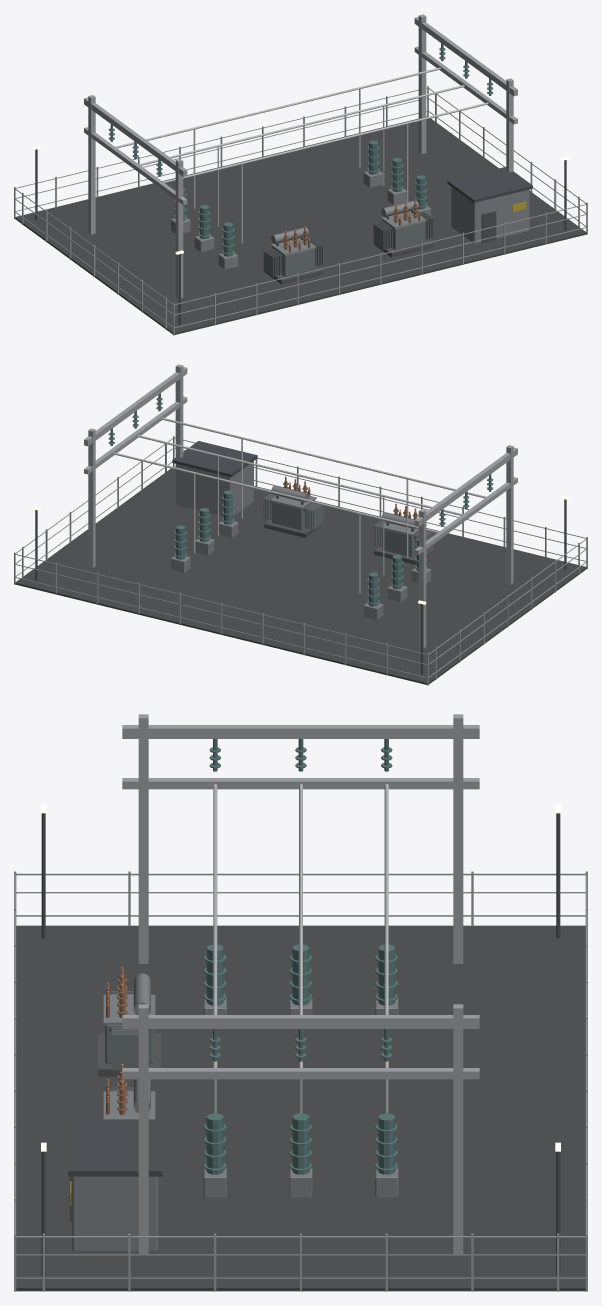
Rendered from substation.glb.
3 views of the same model, one above another, from view 1: azimuth 30°, elevation 25°; view 2: azimuth 150°, elevation 25°; view 3: azimuth 270°, elevation 25° (orthographic). The views are drawn at different scales.
Visible parts, largest first — view 1: gravel, gantries, fence, transformers, control_house, bus_bars, breakers, yard_lamps, insulators; view 2: gravel, gantries, fence, transformers, control_house, bus_bars, breakers, yard_lamps, insulators; view 3: gravel, gantries, fence, control_house, breakers, transformers, bus_bars, yard_lamps, insulators.
Boxes of the visible parts, <box> form: gravel: <box>15,116,586,334</box>; gantries: <box>84,14,517,298</box>; fence: <box>14,86,587,335</box>; transformers: <box>263,199,433,284</box>; control_house: <box>447,167,532,244</box>; bus_bars: <box>115,67,488,243</box>; breakers: <box>171,140,430,269</box>; yard_lamps: <box>32,54,569,324</box>; insulators: <box>108,43,493,176</box>; gravel: <box>15,466,586,684</box>; gantries: <box>84,364,517,648</box>; fence: <box>14,436,587,685</box>; transformers: <box>263,476,433,564</box>; control_house: <box>172,441,257,516</box>; bus_bars: <box>113,417,486,593</box>; breakers: <box>171,490,430,619</box>; yard_lamps: <box>32,404,569,674</box>; insulators: <box>108,393,493,526</box>; gravel: <box>16,925,585,1291</box>; gantries: <box>122,714,479,1253</box>; fence: <box>14,871,587,1291</box>; control_house: <box>68,1119,162,1251</box>; breakers: <box>203,944,398,1197</box>; transformers: <box>98,967,160,1119</box>; bus_bars: <box>213,784,388,1113</box>; yard_lamps: <box>41,804,560,1276</box>; insulators: <box>209,739,392,1061</box>.
Size of the model in its own units: 30.08 by 9.6 by 20.08.
